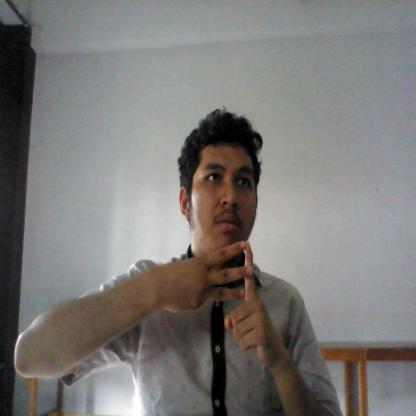B: (178, 238, 280, 362)
